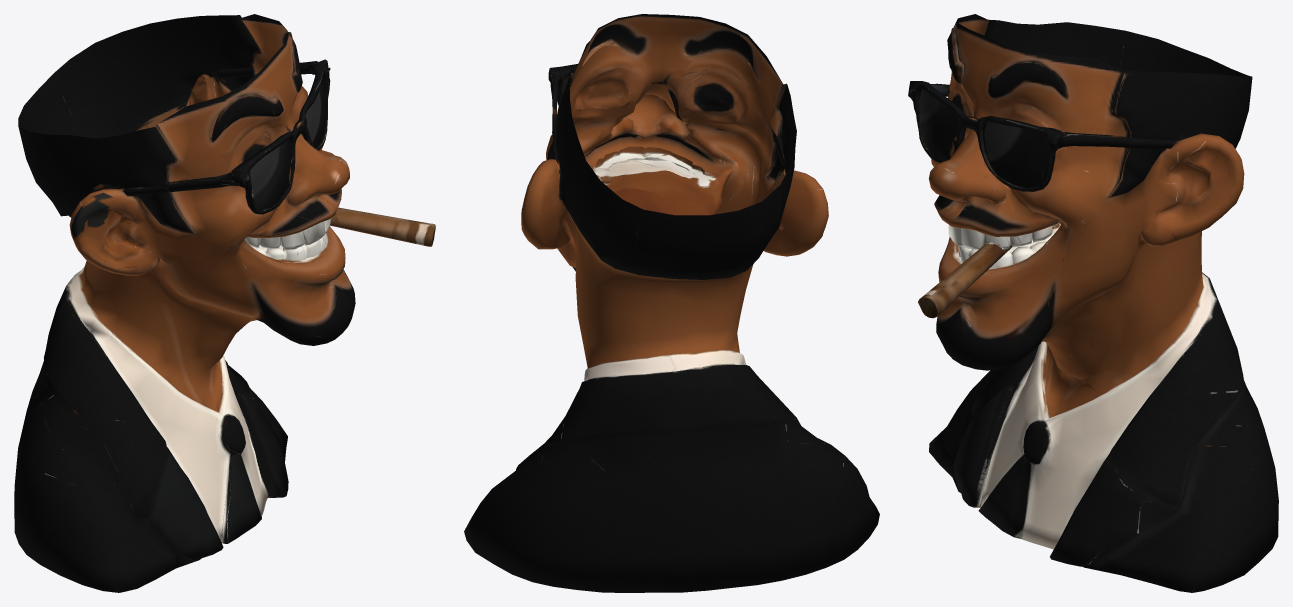
File: bust-grin.glb
3 renders of one model, left to right at view 1: azimuth 30°, elevation 25°; view 2: azimuth 150°, elevation 25°; view 3: azimuth 270°, elevation 25°, orthographic. The views are drawn at different scales.
Bounding box in the file's own units: 0.6 × 0.7782 × 0.5205.
Materials: 1 (1 with a texture image).
